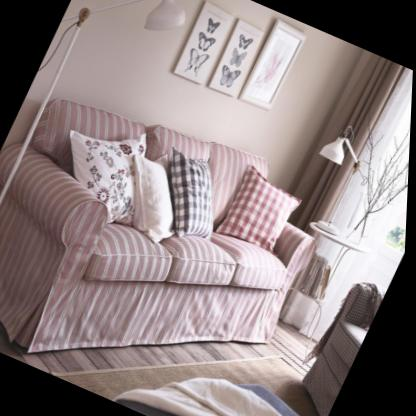Sofa: (0, 60, 347, 416)
